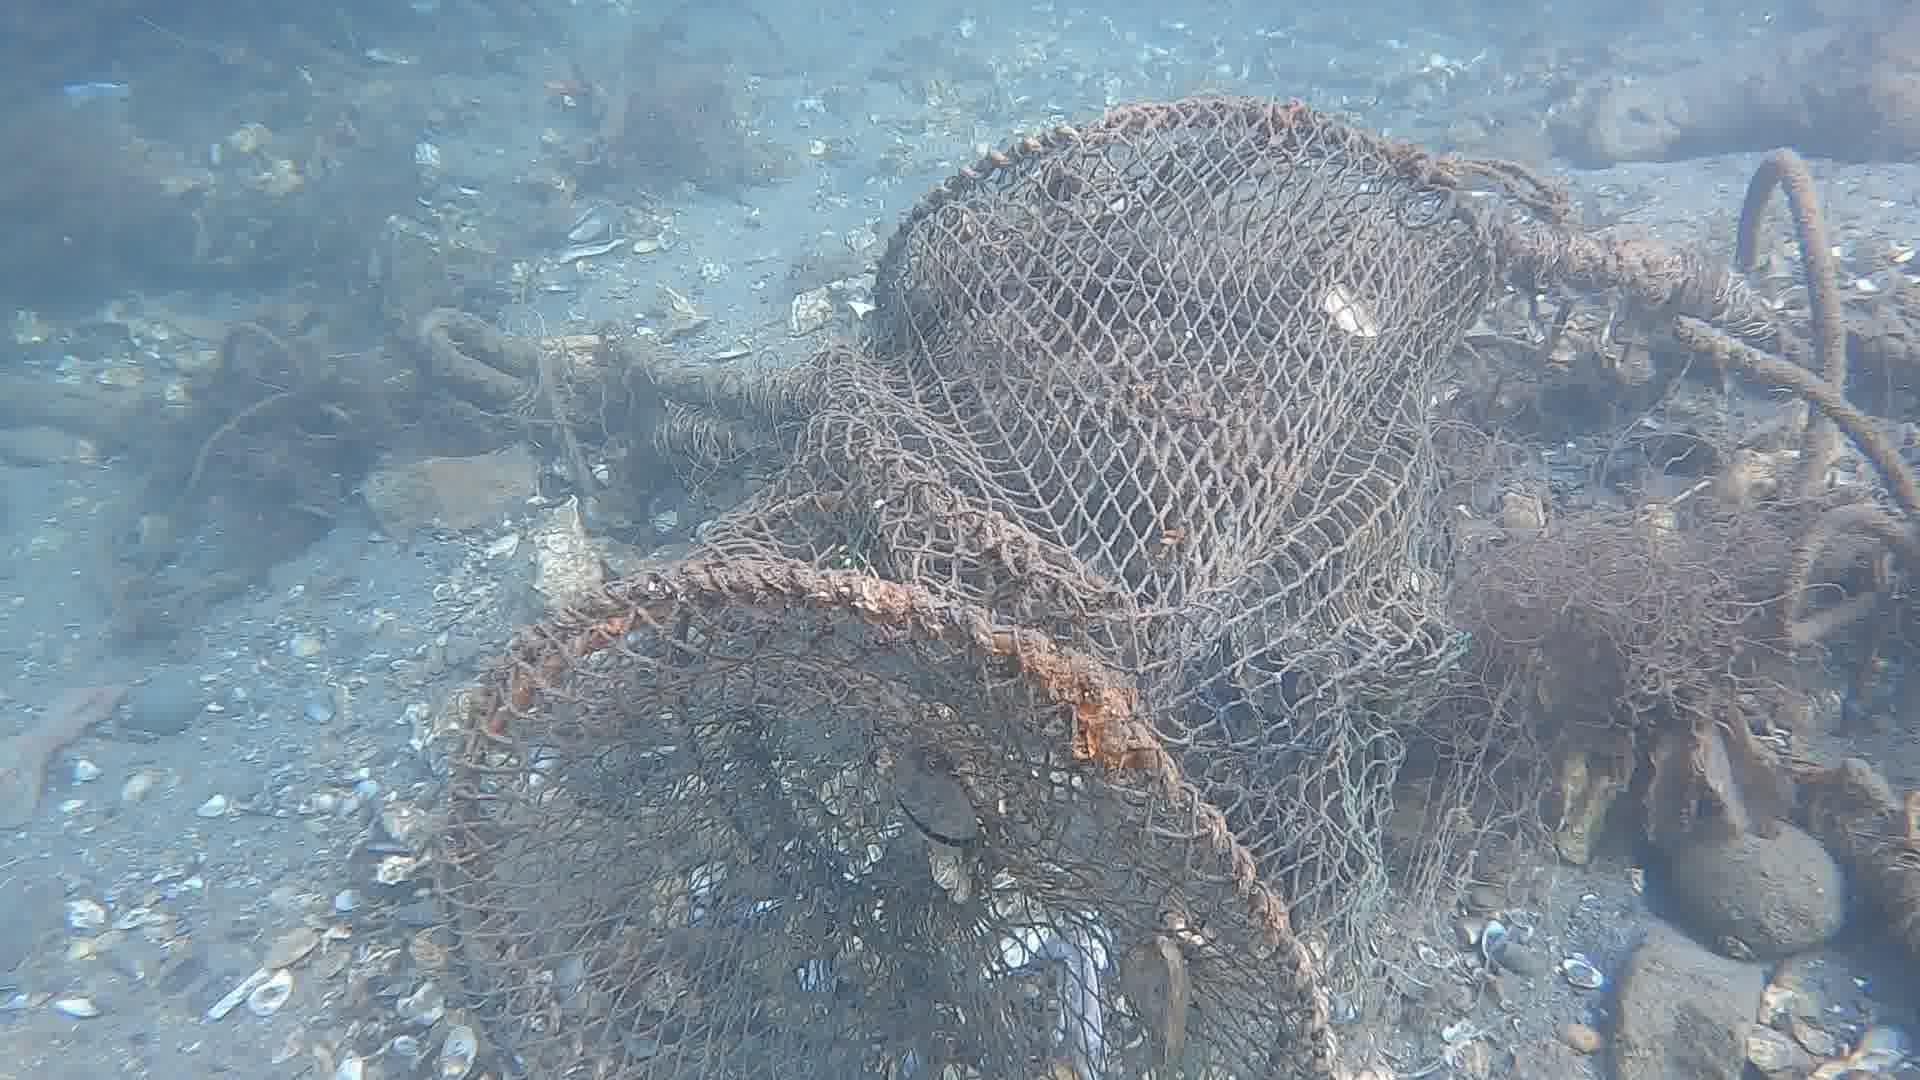spring fish trap: (426, 96, 1494, 1080)
